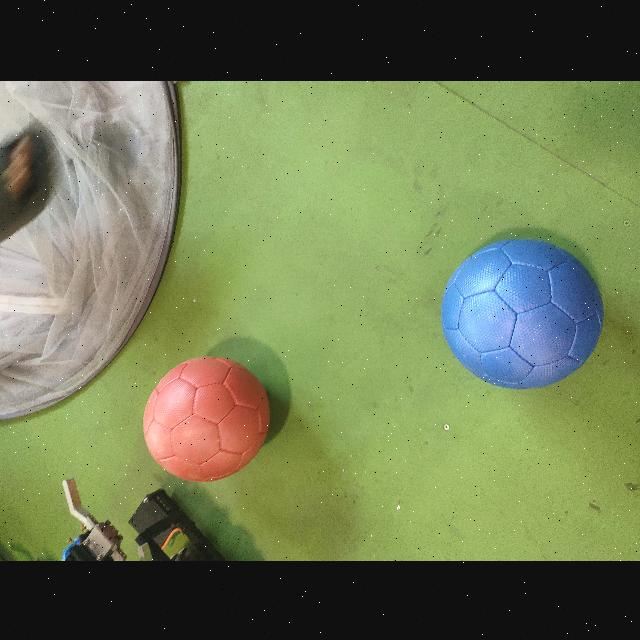B: (439, 236, 603, 390)
R: (140, 356, 272, 482)
